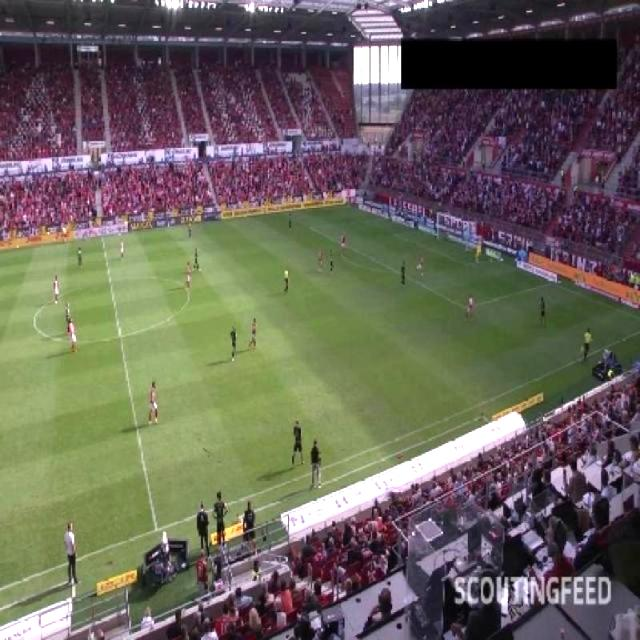bigarea_bottom_inner: (458, 301, 470, 313)
bigarea_bottom_outter: (545, 278, 557, 290)
bigarea_top_inner: (304, 220, 318, 234)
bigarea_top_outter: (380, 215, 390, 222)
bottom_arc_area_intersection: (384, 260, 399, 274)
corner: (341, 200, 357, 212)
halfcircle_bottom: (109, 323, 129, 345)
halfcircle_top: (104, 274, 116, 286)
midline_bottom_intersection: (147, 520, 166, 536)
midline_top_intersection: (96, 233, 108, 243)
smallarea_bottom_inner: (458, 258, 473, 272)
smallarea_bottom_outter: (486, 252, 497, 267)
smallarea_top_inner: (390, 230, 400, 240)
smallarea_top_outter: (413, 228, 422, 235)
